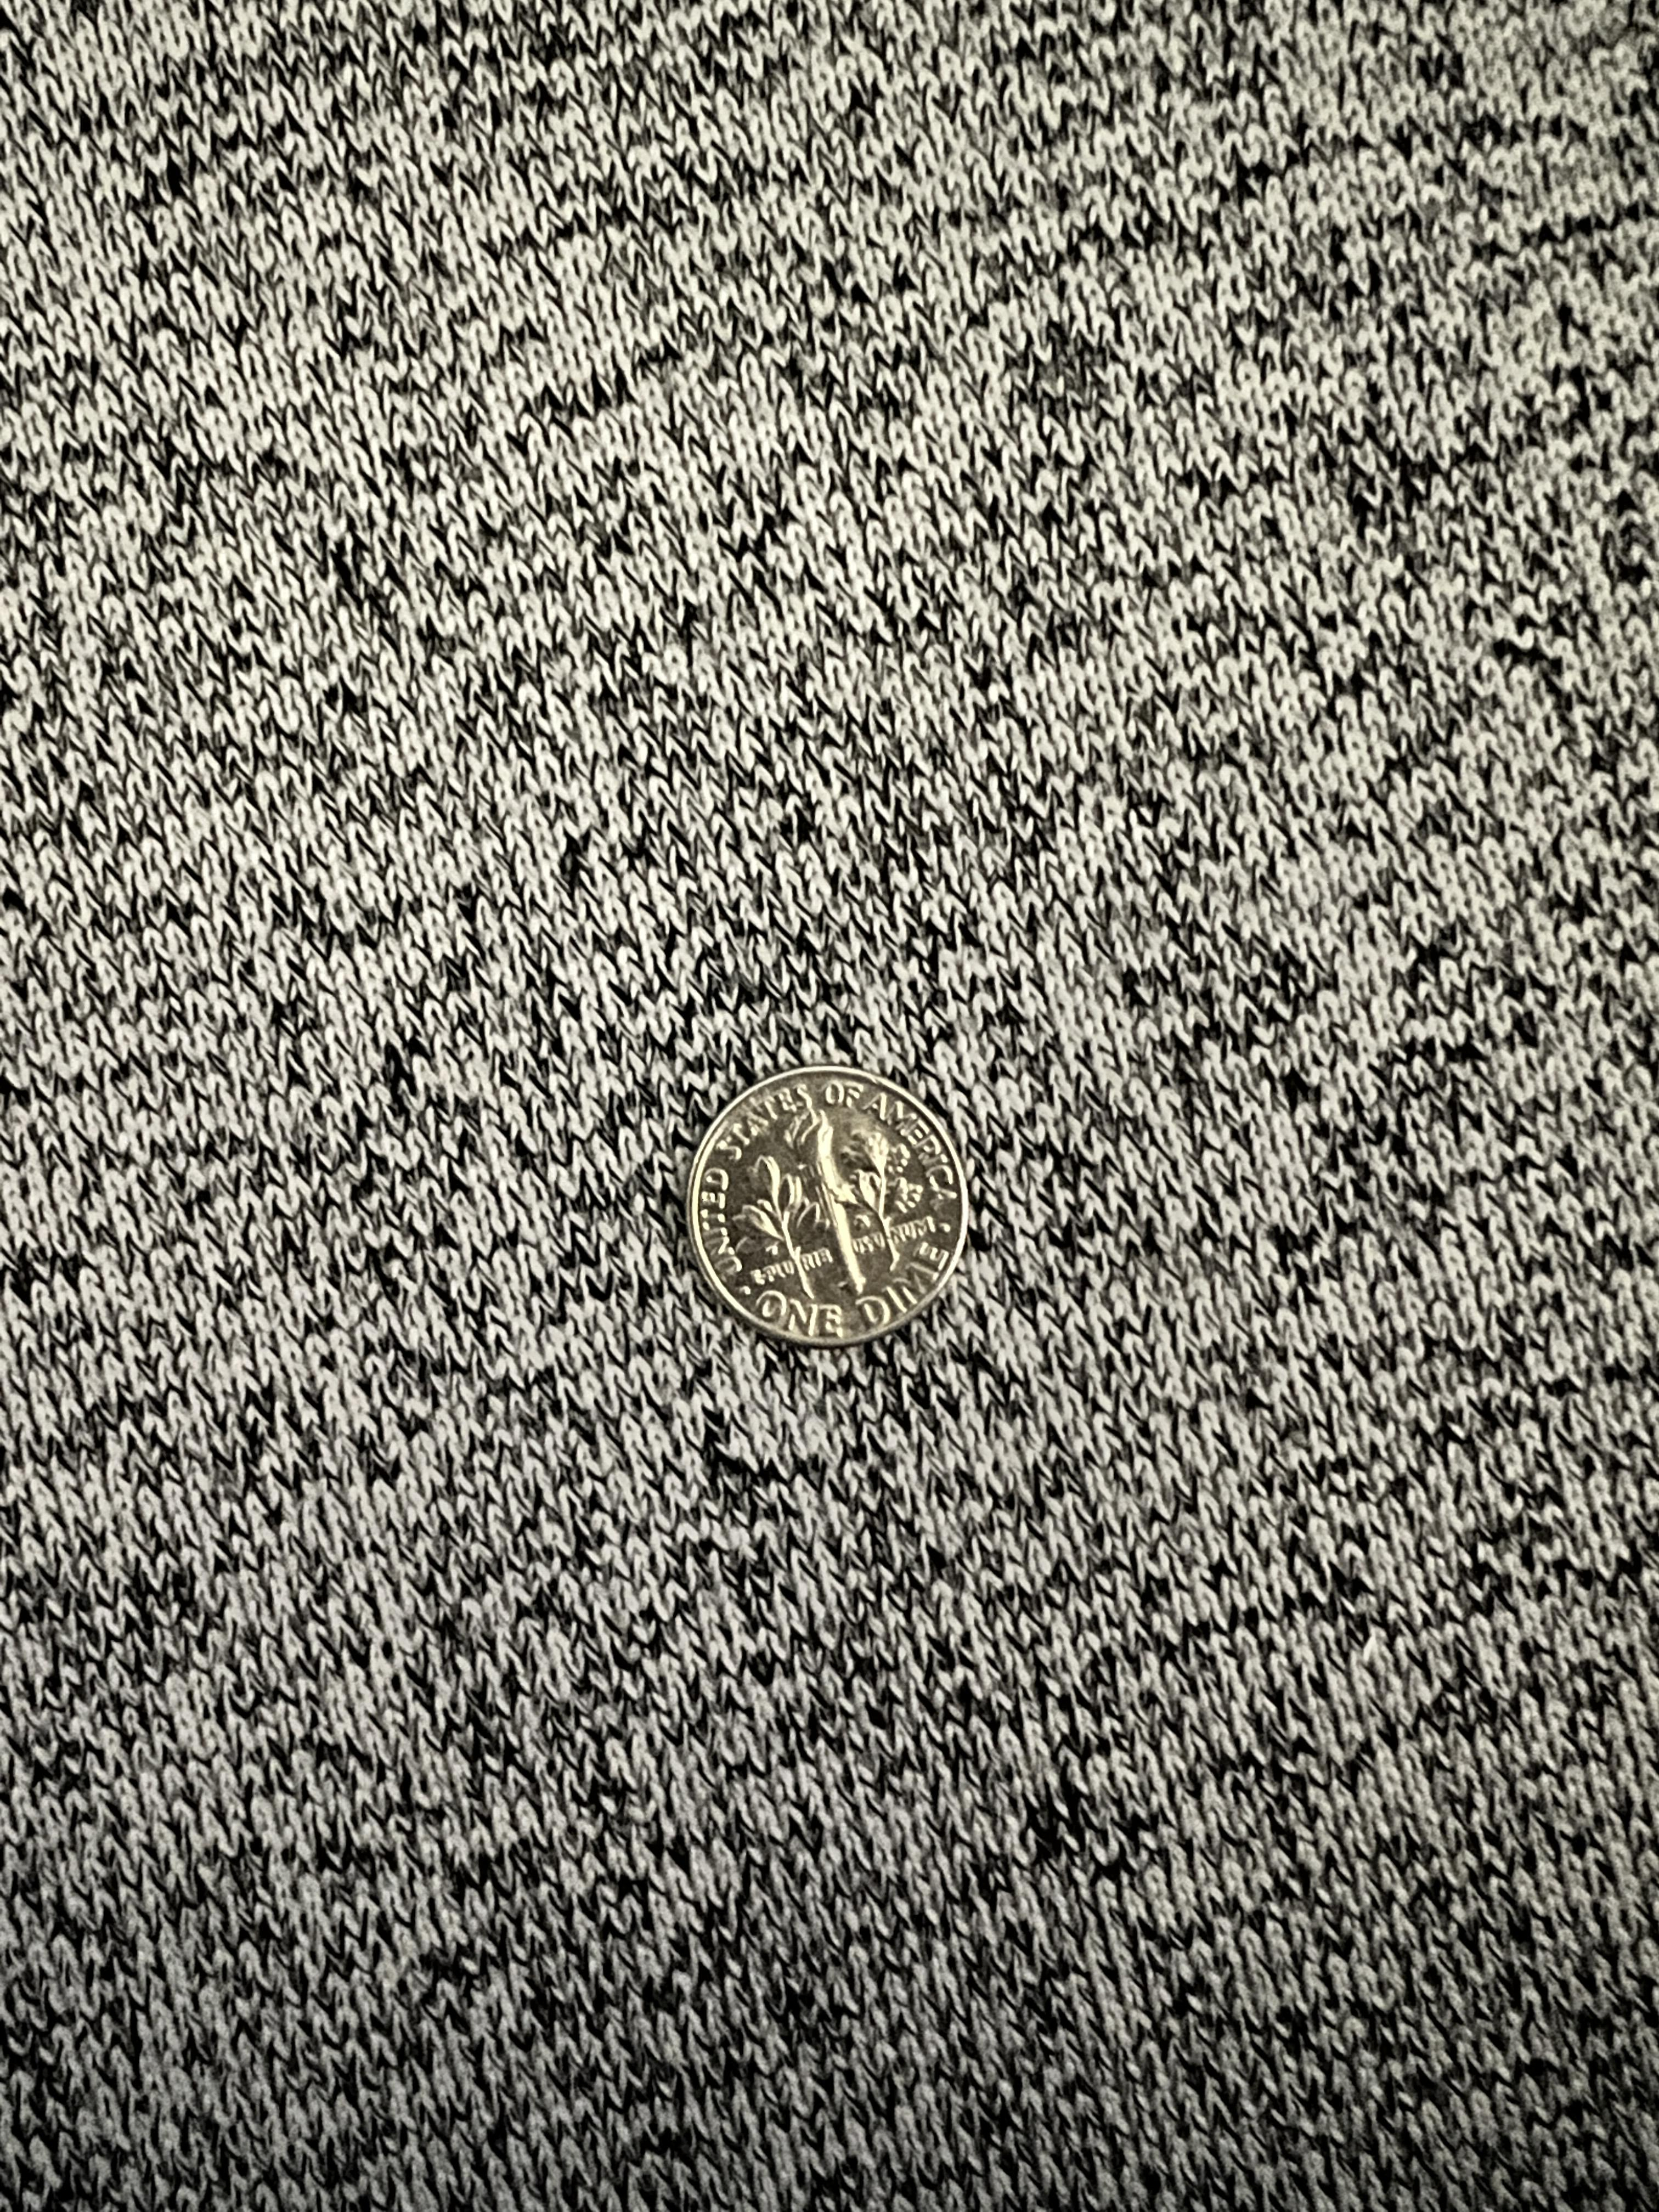Dime: (673, 1057, 976, 1350)
